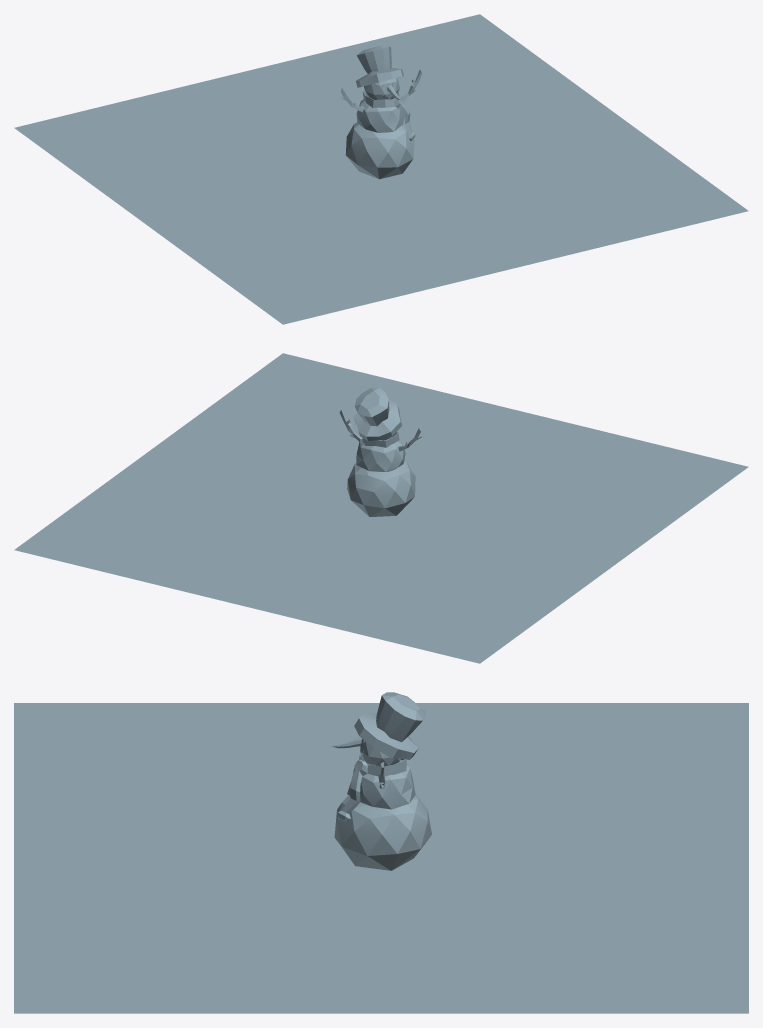
File: Tile 61_Combined.fbx
3 views of the same model, one above another, from view 1: azimuth 30°, elevation 25°; view 2: azimuth 150°, elevation 25°; view 3: azimuth 270°, elevation 25° (orthographic). The views are drawn at different scales.
Parts seen in each view (by area): view 1: MeshBaker_mesh_mesh; view 2: MeshBaker_mesh_mesh; view 3: MeshBaker_mesh_mesh.
Boxes of the visible parts, left/top/right/bottom form: MeshBaker_mesh_mesh: left=14, top=14, right=748, bottom=324; MeshBaker_mesh_mesh: left=14, top=353, right=748, bottom=663; MeshBaker_mesh_mesh: left=14, top=692, right=748, bottom=1013.
Bounding box in the file's own units: 3000 × 740 × 3000.
